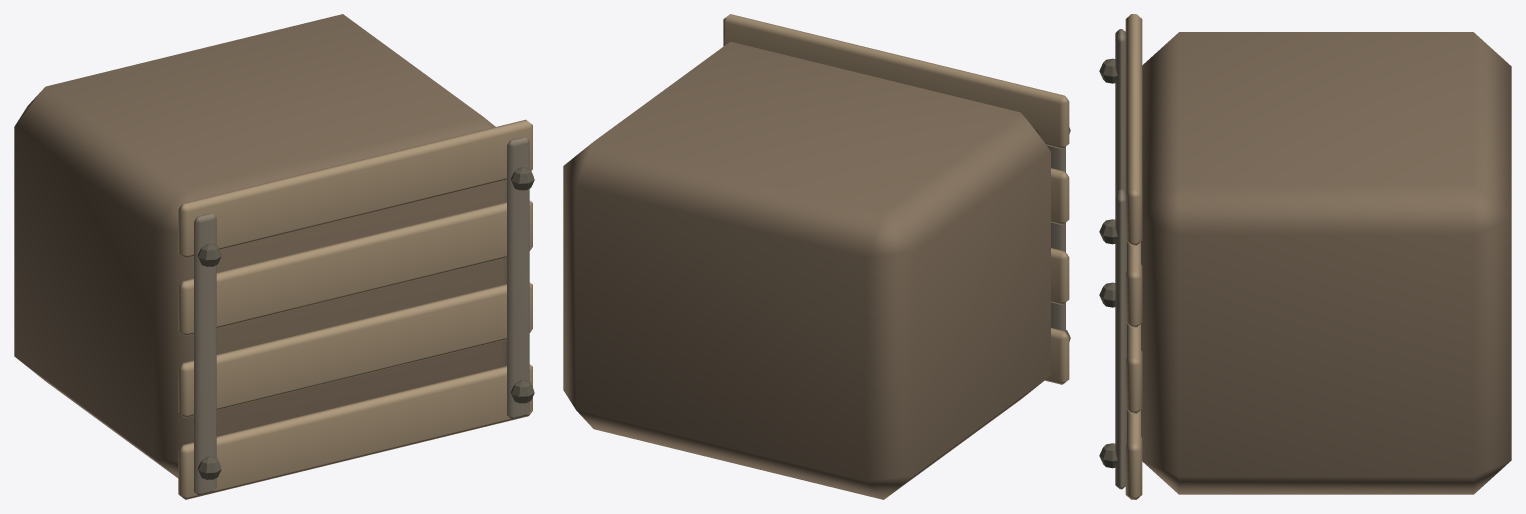
Rendered from salvage_crate_a.glb.
3 renders of one model, left to right at view 1: azimuth 30°, elevation 25°; view 2: azimuth 150°, elevation 25°; view 3: azimuth 270°, elevation 25°, orthographic. The views are drawn at different scales.
Visible parts, largest first — view 1: salvage_crate_a LOD0; view 2: salvage_crate_a LOD0; view 3: salvage_crate_a LOD0.
Part boxes in pixels (x1,y1,x2,y2): salvage_crate_a LOD0: (14, 14, 534, 499); salvage_crate_a LOD0: (563, 14, 1070, 499); salvage_crate_a LOD0: (1099, 14, 1511, 499).
Size of what is drawn, in the model's own units: 0.92 by 0.735 by 0.868.
